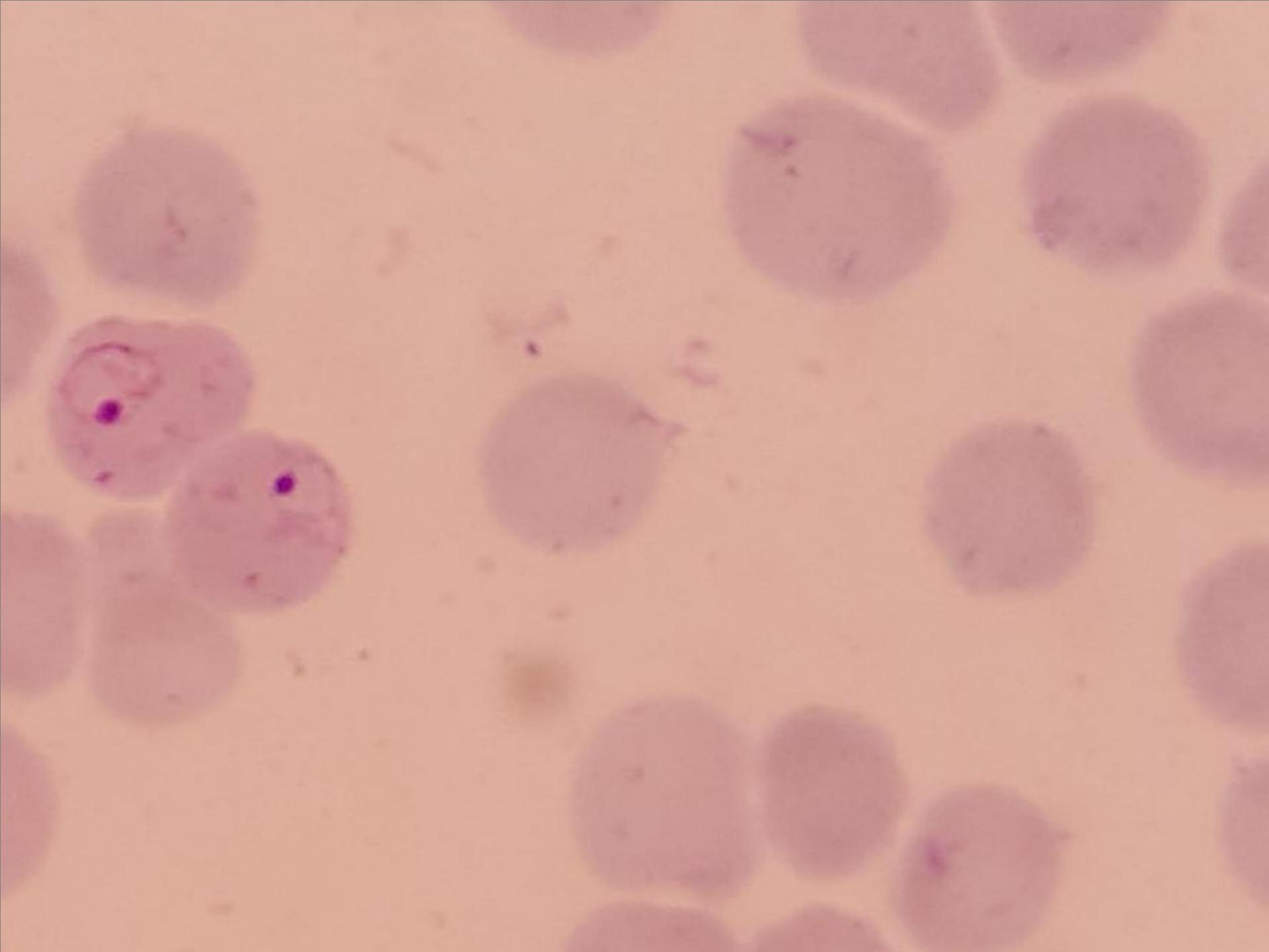Infected: (45, 311, 254, 505), (157, 431, 347, 609)
Uninfected: (727, 94, 951, 295), (570, 692, 762, 900), (79, 509, 246, 724), (1021, 90, 1205, 272), (478, 377, 668, 549), (74, 126, 256, 296), (922, 421, 1097, 592), (893, 784, 1061, 951), (1132, 294, 1269, 485), (760, 706, 908, 877)
